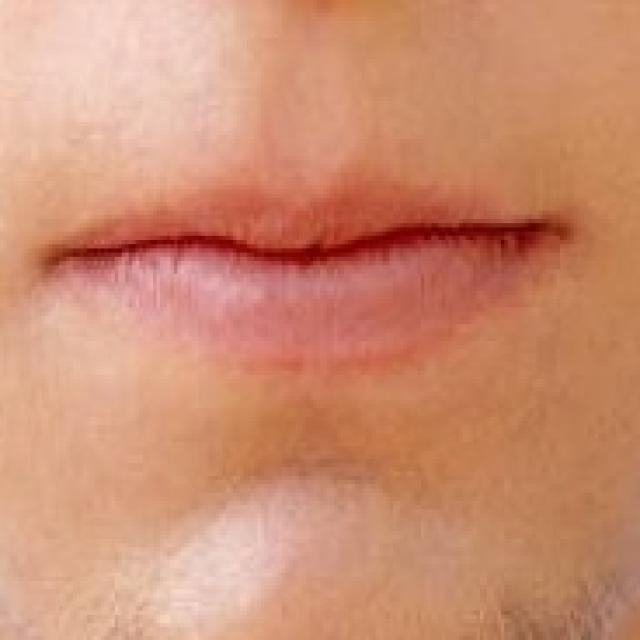closed-mouth: (37, 181, 572, 365)
